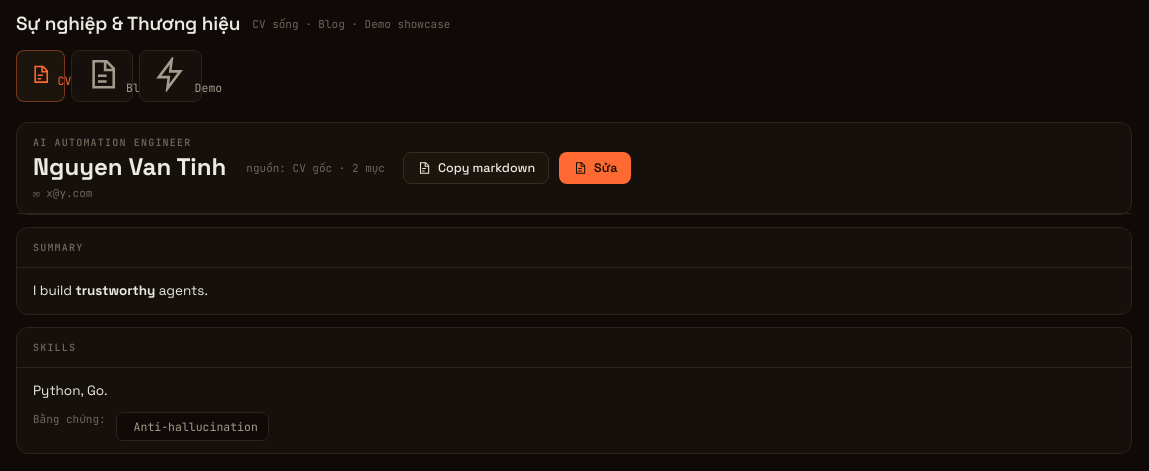
CAR-1 Career — Blog tab › empty blog → empty state
The image size is (1149, 471).
Click the button with test id "tab-blog" at [102, 76], box x1=71 y1=50 x2=133 y2=102
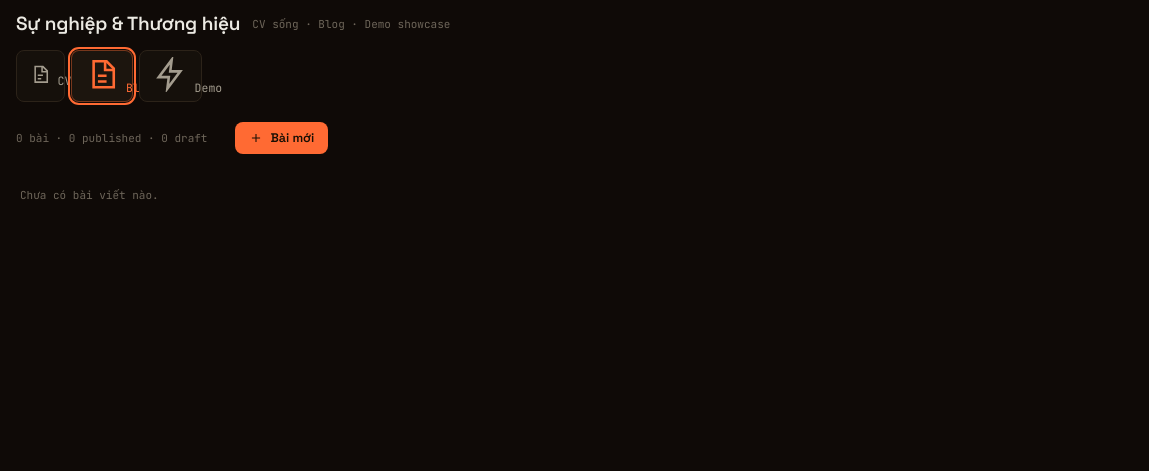
Expected: the text "Chưa có bài viết nào." is shown, x1=20 y1=188 x2=159 y2=202
